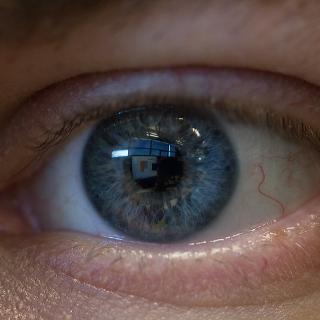iris: (84, 91, 237, 244)
